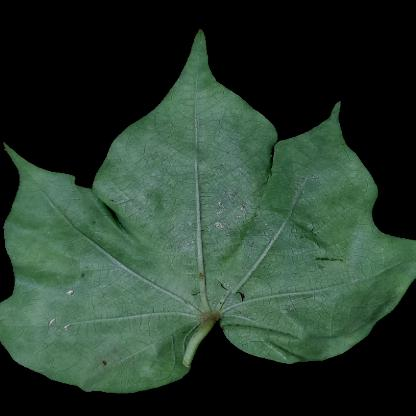curl_stage2: (251, 290, 369, 325), (217, 241, 296, 293), (186, 291, 230, 341)
healthy: (42, 271, 188, 372), (114, 179, 318, 235), (148, 103, 244, 173), (19, 194, 97, 274), (293, 129, 342, 185), (360, 247, 410, 297)
